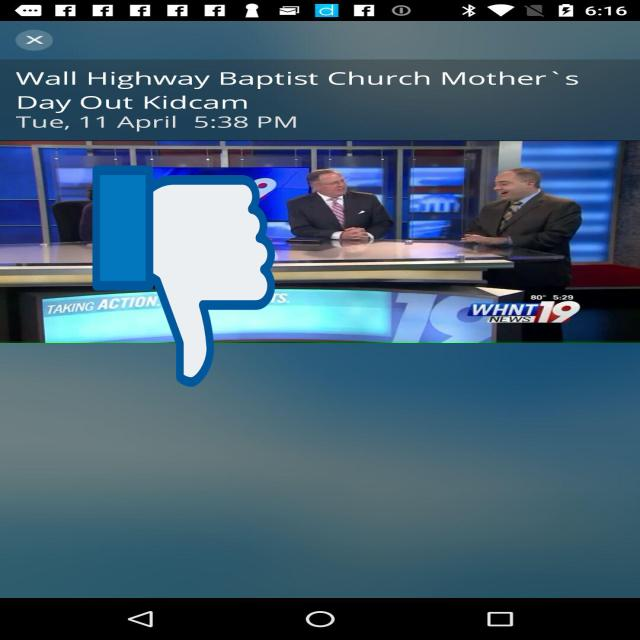obstruction: (92, 160, 275, 392)
